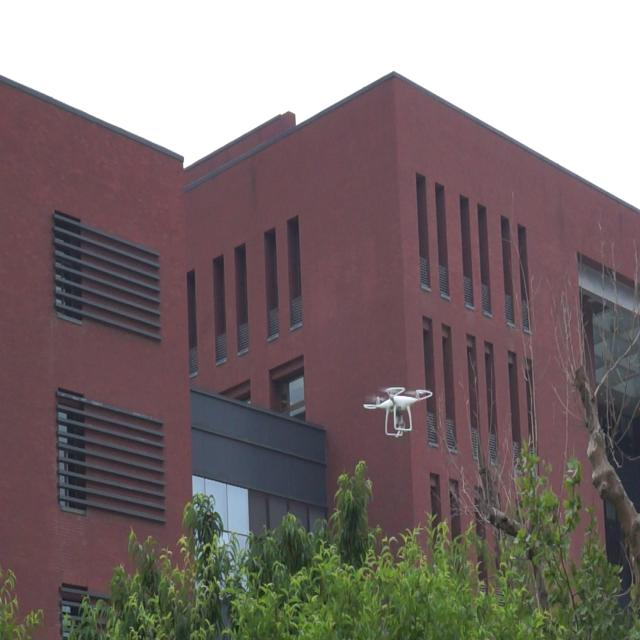drone: (360, 383, 434, 441)
